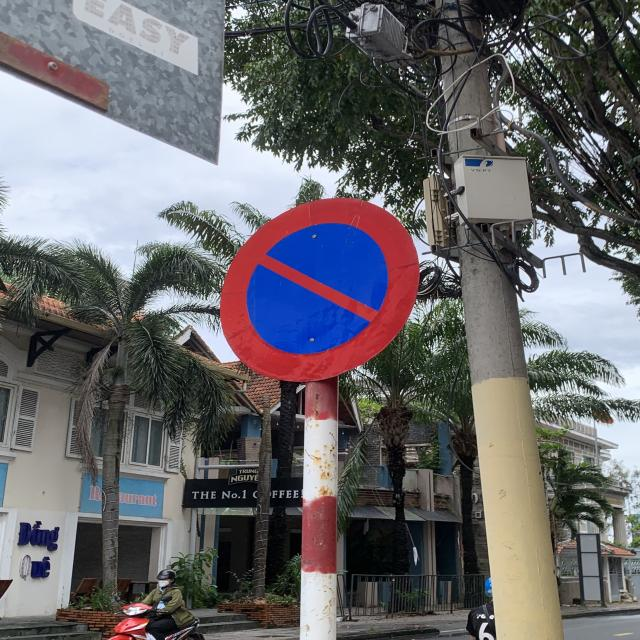Cam_Dau_Xe: (216, 197, 424, 386)
